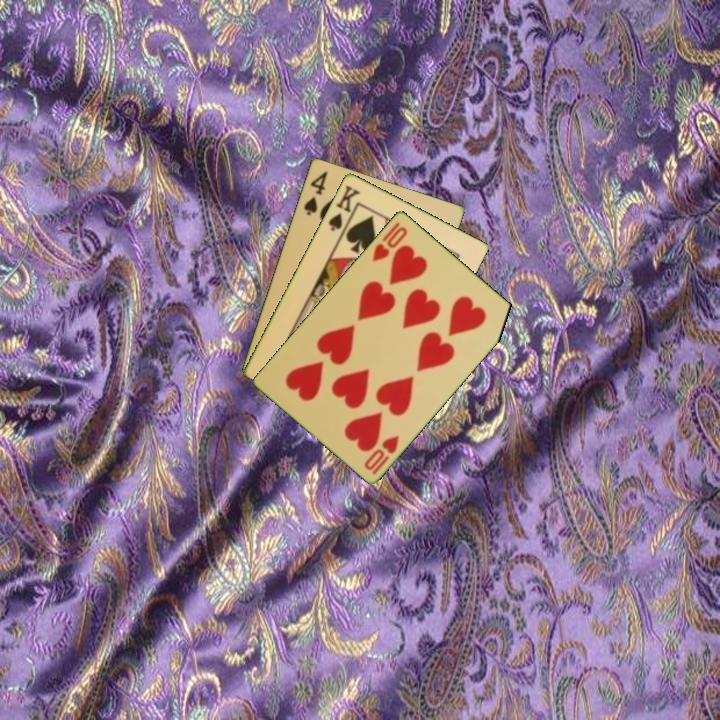10h: (361, 431, 402, 477), (368, 222, 410, 264)
4s: (300, 167, 330, 218)
Ks: (325, 181, 363, 237)
